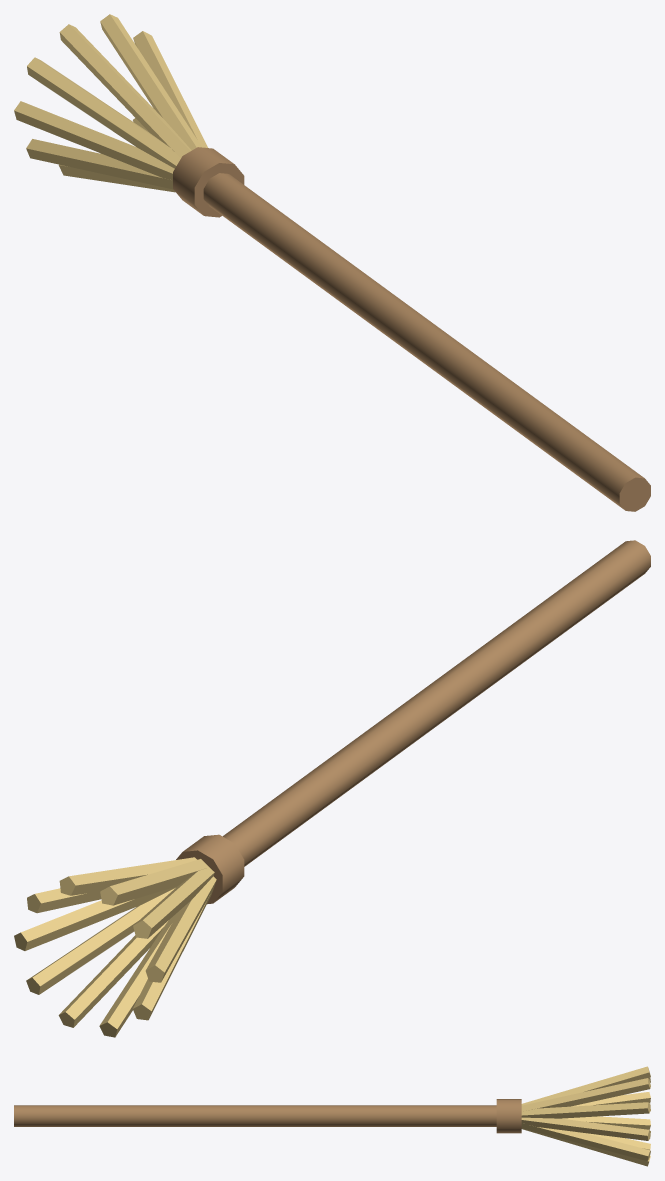
Rendered from Vassoura.glb.
3 views of the same model, one above another, from view 1: azimuth 30°, elevation 25°; view 2: azimuth 150°, elevation 25°; view 3: azimuth 270°, elevation 25° (orthographic). The views are drawn at different scales.
Visible parts, largest first — view 1: Vassoura; view 2: Vassoura; view 3: Vassoura.
Boxes of the visible parts, box(x1,y1,x2,y2) form: Vassoura: box(14, 14, 650, 511); Vassoura: box(14, 540, 650, 1037); Vassoura: box(14, 1066, 650, 1166).
Size of the model in its own units: 0.2019 by 0.1921 by 1.27.
